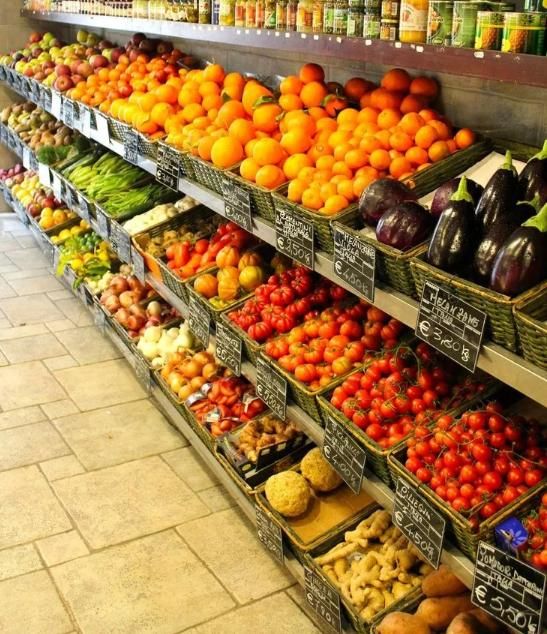butternut squash: (375, 563, 547, 634)
cabbage: (66, 154, 125, 188)
eggplant: (423, 143, 547, 311)
ginger: (312, 514, 436, 624)
green apple: (5, 28, 84, 82)
lemon: (45, 217, 91, 247)
mandarin: (284, 104, 476, 221)
onion: (191, 376, 263, 438), (161, 349, 226, 399), (136, 323, 202, 369), (114, 296, 179, 342), (100, 275, 156, 313)
orange: (191, 66, 326, 179), (232, 92, 349, 198), (118, 65, 244, 135)
sweet pepper: (165, 224, 247, 282)
tomato: (394, 394, 540, 527), (321, 348, 475, 450), (262, 304, 394, 391), (227, 268, 344, 344)
